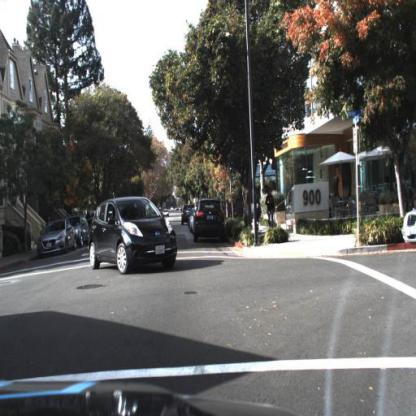car: (88, 195, 180, 272), (193, 201, 226, 245), (37, 219, 76, 254), (77, 211, 89, 251), (181, 203, 191, 230)
pedestrian: (266, 187, 277, 225), (254, 191, 263, 229)
